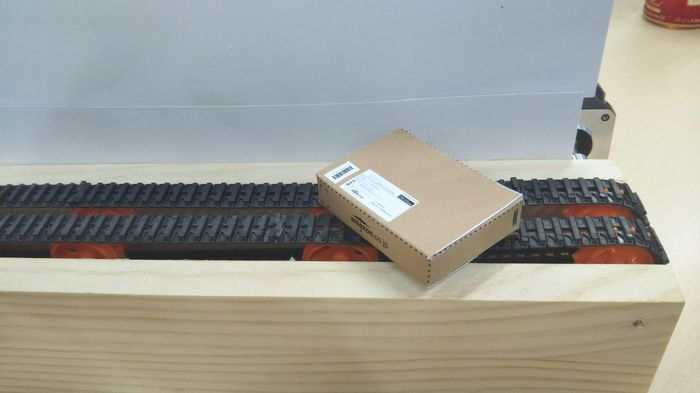box2: (312, 123, 524, 289)
